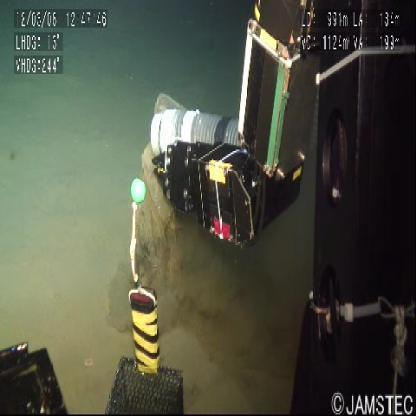Rác: (132, 86, 186, 302)
